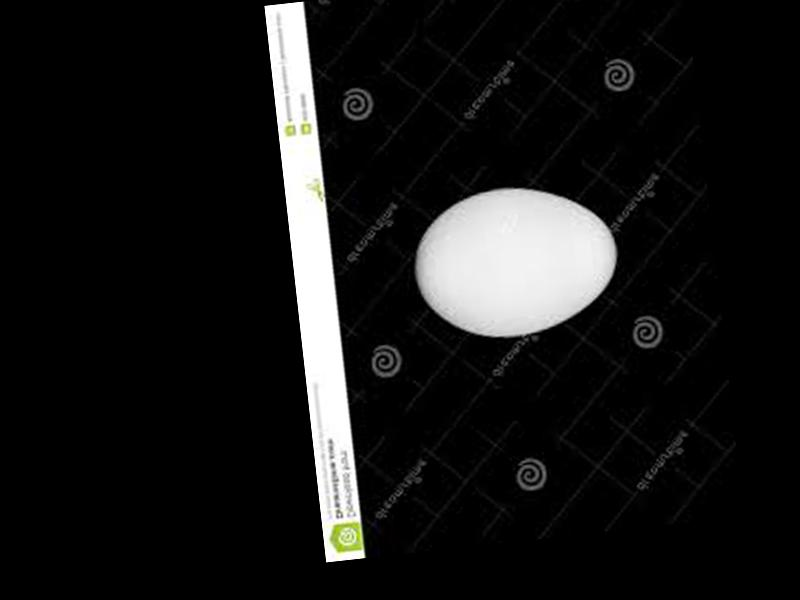Eggs: (407, 173, 623, 344)
